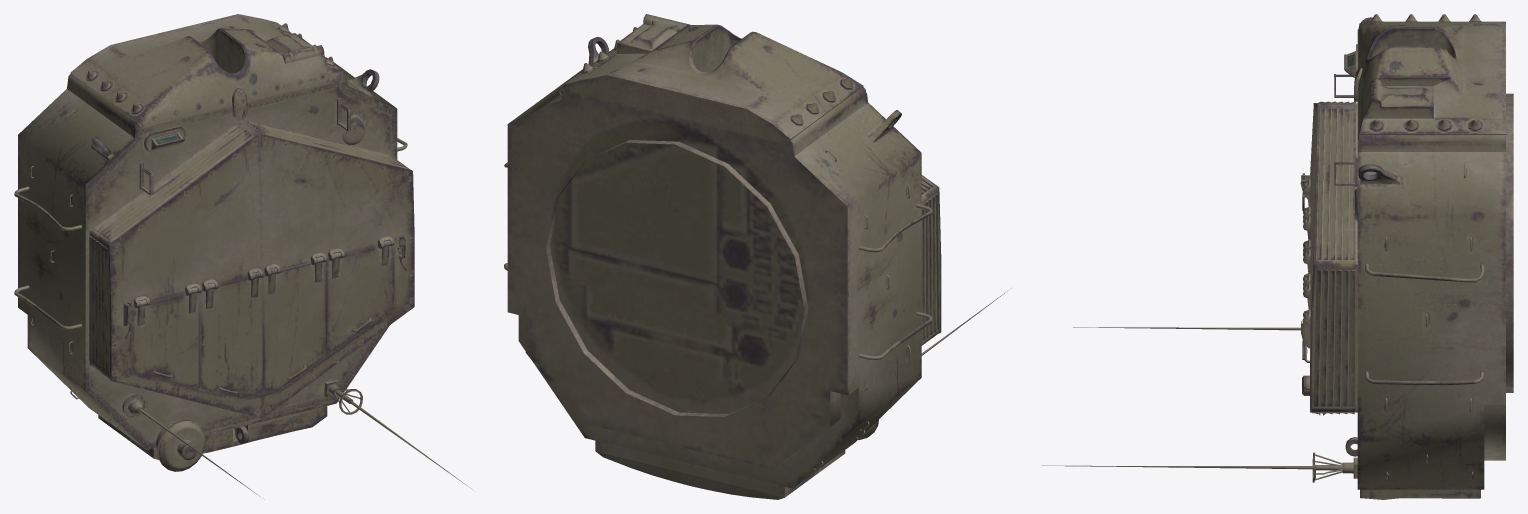
Rendered from Turret_02.glb.
3 views of the same model, side by side, from view 1: azimuth 30°, elevation 25°; view 2: azimuth 150°, elevation 25°; view 3: azimuth 270°, elevation 25° (orthographic). The views are drawn at different scales.
Parts seen in each view (by area): view 1: set_0_group_0; view 2: set_0_group_0; view 3: set_0_group_0.
Boxes of the visible parts, <box> form: set_0_group_0: <box>14,14,472,499</box>; set_0_group_0: <box>504,14,1011,499</box>; set_0_group_0: <box>1041,14,1513,499</box>.
Size of the model in its own units: 2.37 by 2.62 by 2.55.
1 material, 1 textured.
